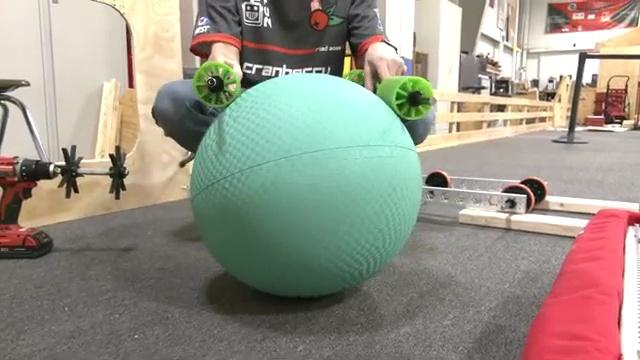ALGAE: (188, 71, 423, 299)
